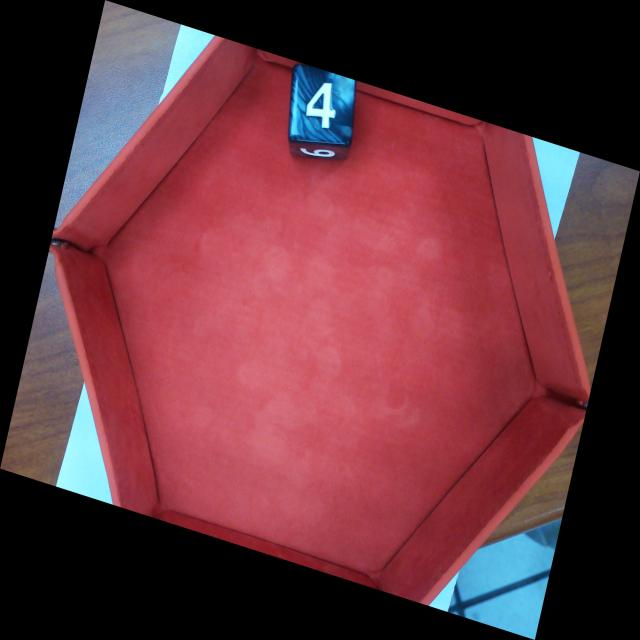dice: (287, 61, 356, 151)
